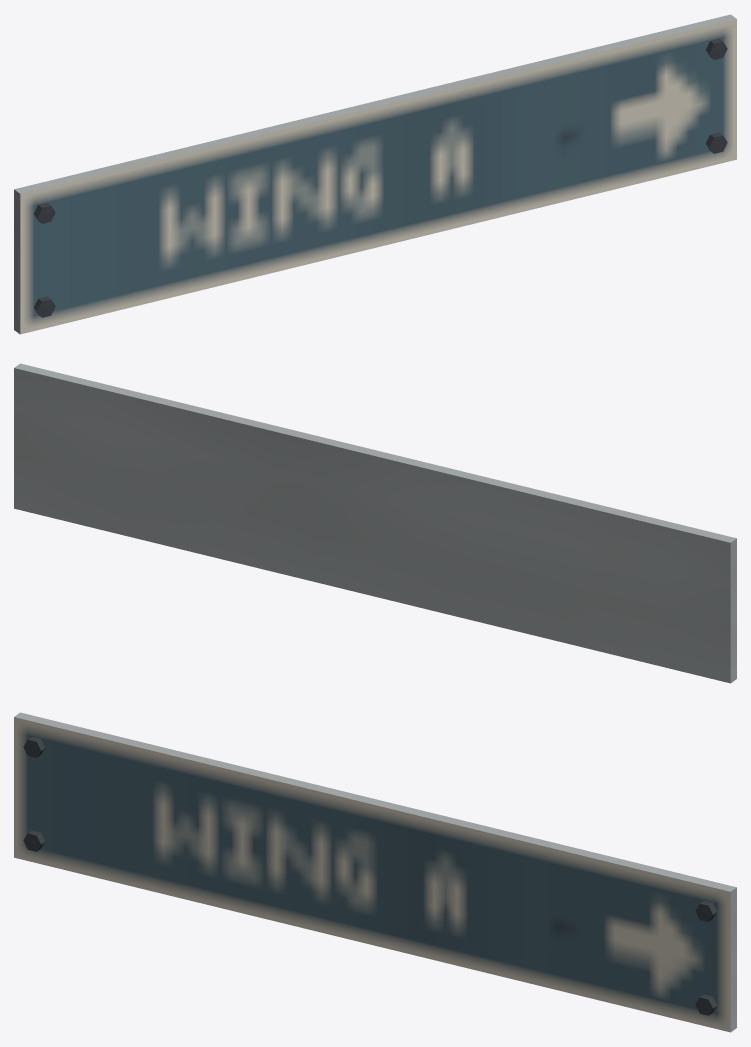
Rendered from sign_wing_a.fbx.
3 renders of one model, top to bottom at view 1: azimuth 30°, elevation 25°; view 2: azimuth 150°, elevation 25°; view 3: azimuth 330°, elevation 25°, orthographic.
Visible parts, largest first — view 1: sign_wing_a; view 2: sign_wing_a; view 3: sign_wing_a.
Part boxes in pixels (<box>): sign_wing_a: <box>14,14,736,334</box>; sign_wing_a: <box>14,363,736,683</box>; sign_wing_a: <box>14,712,736,1032</box>.
Bounding box in the file's own units: 0.8 × 0.15 × 0.02.
Materials: 1 (1 with a texture image).
